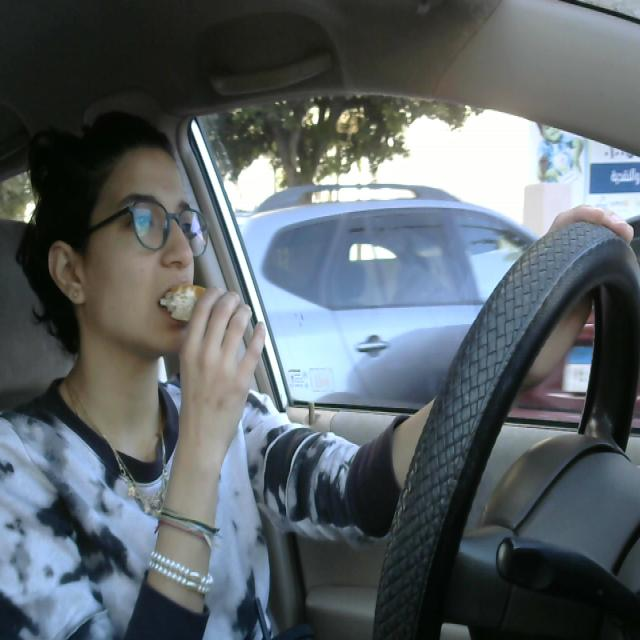eating: (150, 268, 242, 376)
